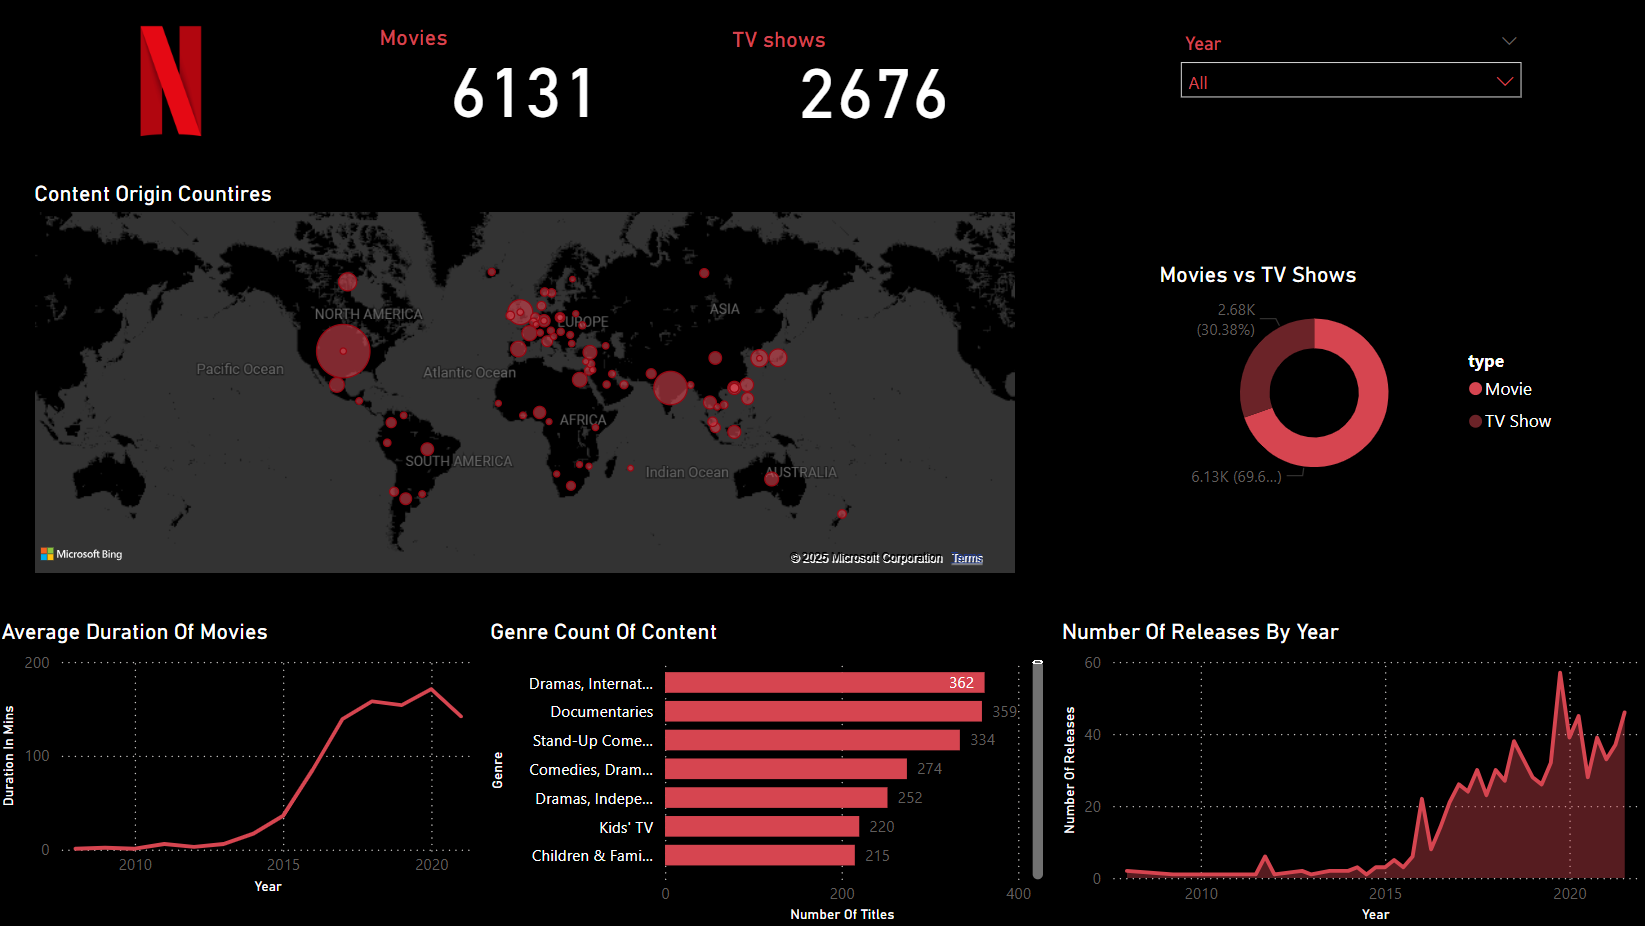

The page's visual inventory and layout, read from the dashboard file:
{"tool":"powerbi","page":{"name":"Page 1","canvas":[1280,720],"ordinal":0},"visuals":[{"type":"donutChart","title":"Movies vs TV Shows","fields":{"Category":["Netflix_out.type"],"Y":["Count(Netflix_out.Column1)"]},"box":[897.7,203.5,323.3,183.7],"z":0},{"type":"areaChart","title":"Number Of Releases By Year","fields":{"Category":["Netflix_out.date_added.Variation.Date Hierarchy.Year","Netflix_out.date_added.Variation.Date Hierarchy.Quarter"],"Y":["Count(Netflix_out.release_year)"]},"box":[821.5,479.7,458.9,239.9],"z":1000},{"type":"clusteredBarChart","title":"Genre Count Of Content","fields":{"Category":["Netflix_out.listed_in"],"Y":["Count(Netflix_out.Column1)"]},"box":[378.9,479.7,438,239.9],"z":2000},{"type":"map","title":"Content Origin Countires","fields":{"Category":["Netflix_out.country"],"Size":["Count(Netflix_out.Column1)"]},"box":[25.6,140.7,769.8,309.3],"z":3000},{"type":"lineChart","title":"Average Duration Of Movies","fields":{"Category":["Netflix_out.date_added.Variation.Date Hierarchy.Year","Netflix_out.date_added.Variation.Date Hierarchy.Quarter","Netflix_out.date_added.Variation.Date Hierarchy.Month","Netflix_out.date_added.Variation.Date Hierarchy.Day"],"Y":["Count(Netflix_out.duration)"]},"box":[0,479.7,378.9,217.8],"z":4000},{"type":"card","title":"Movies","fields":{"Values":["CountNonNull(Netflix_out.type)"]},"box":[293,19.8,234.9,93],"z":5000},{"type":"card","title":"TV shows","fields":{"Values":["CountNonNull(Netflix_out.type)"]},"box":[566.3,20.9,229.1,91.9],"z":6000},{"type":"image","box":[0,0,272.1,126.7],"z":7000},{"type":"slicer","fields":{"Values":["Netflix_out.date_added.Variation.Date Hierarchy.Year"]},"box":[909.3,20.9,283.7,91.9],"z":8000}]}

Visuals, with their boxes in screenshot pixels (x1, y1, x2, y2), scaled from the page's 1280x720 canvas onto the 1645x926 screenshot:
"Movies vs TV Shows" donutChart: Rect(1154, 262, 1569, 498)
"Number Of Releases By Year" areaChart: Rect(1056, 617, 1644, 925)
"Genre Count Of Content" clusteredBarChart: Rect(487, 617, 1050, 925)
"Content Origin Countires" map: Rect(33, 181, 1022, 579)
"Average Duration Of Movies" lineChart: Rect(0, 617, 487, 897)
"Movies" card: Rect(377, 25, 678, 145)
"TV shows" card: Rect(728, 27, 1022, 145)
image: Rect(0, 0, 350, 163)
slicer - Netflix_out.date_added.Variation.Date Hierarchy.Year: Rect(1169, 27, 1533, 145)
